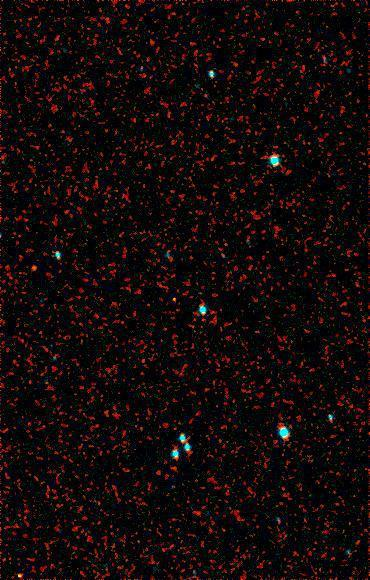star: (18, 253, 48, 283)
